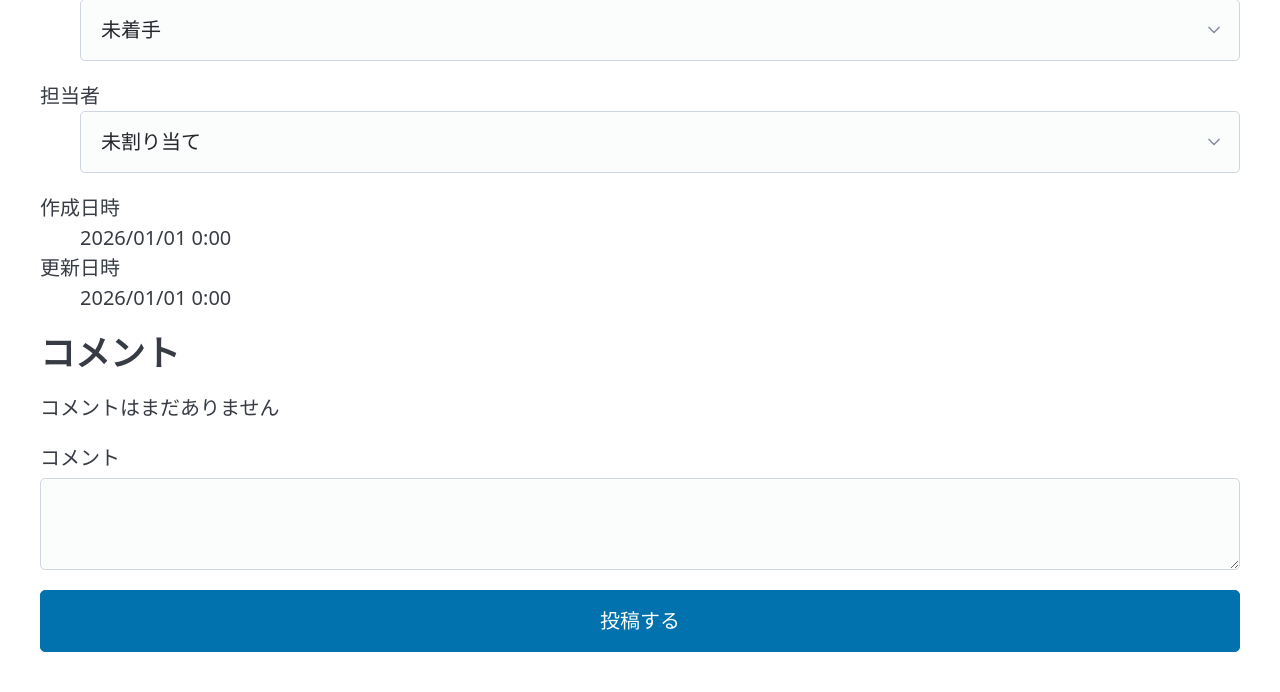
it: コメント投稿 › 投稿すると、一覧を取り直して表示し、フォームを空にする
(page scrolled)
Check: the form named "コメントを投稿" is shown, box [40,443,1240,672]
In the text box labelled "コメント": x=640, y=524 [40,478,1240,570], type "新しいコメント"
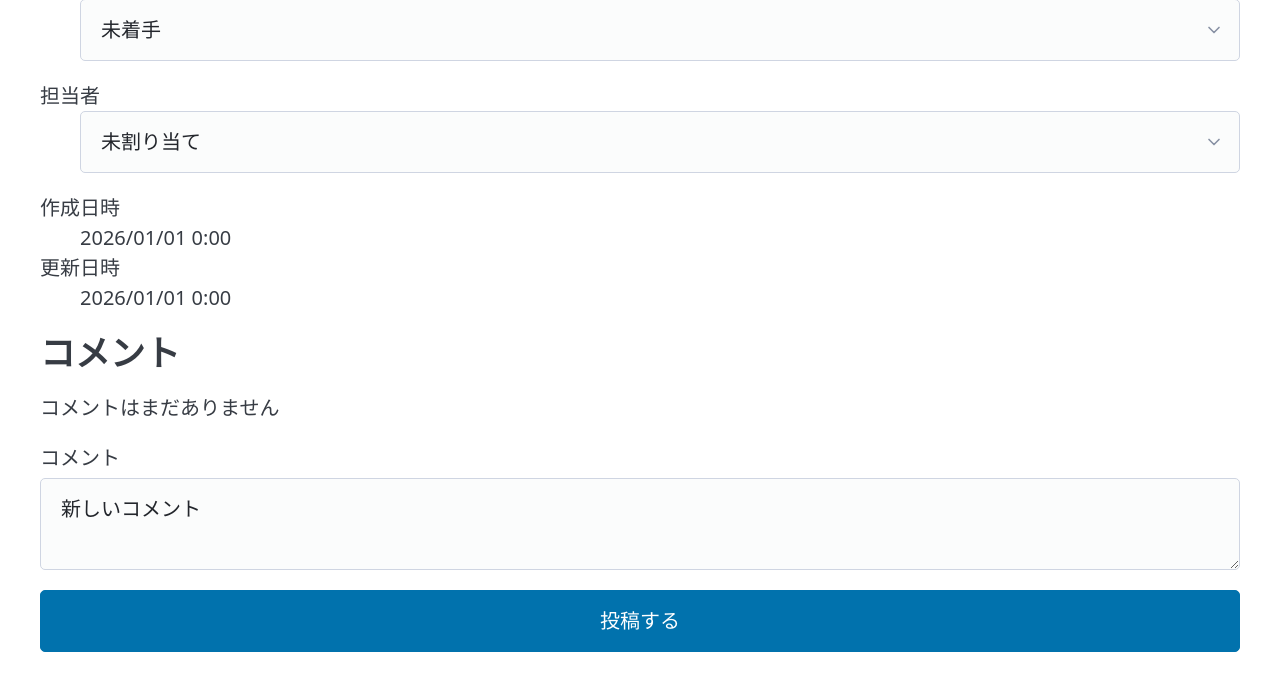
Click the button "投稿する": x=640, y=621 [40,590,1240,652]
(page scrolled)
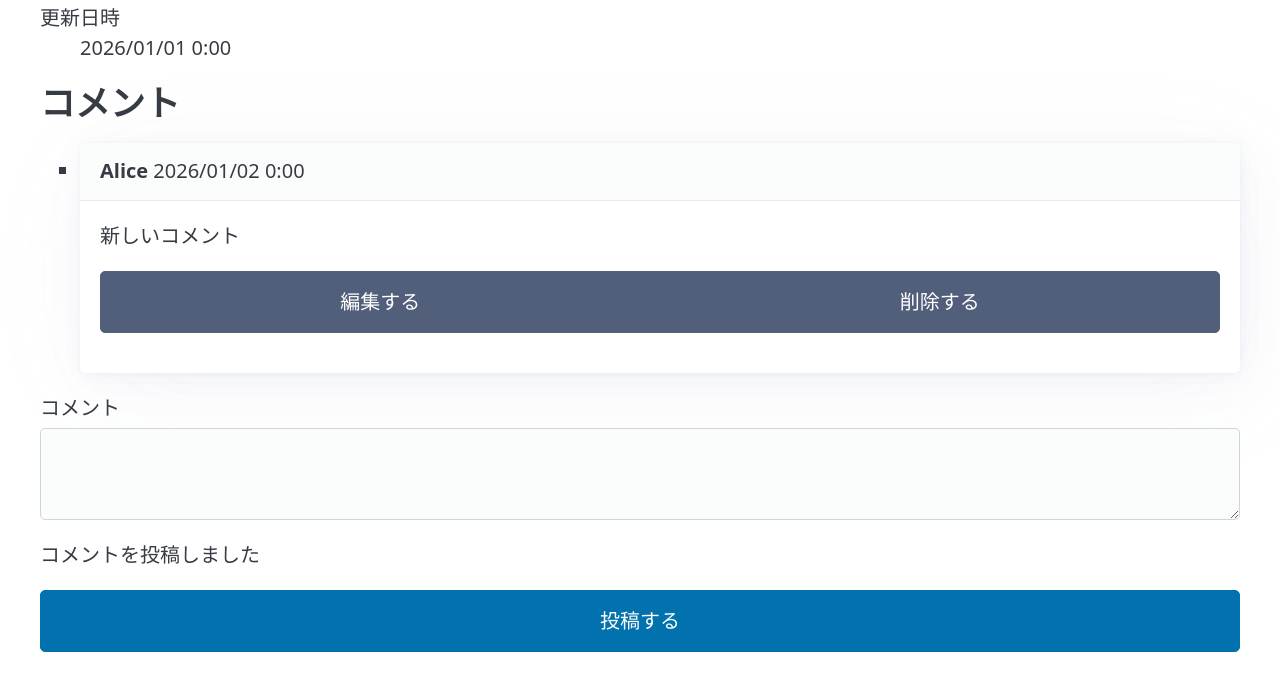
Check: the message reads "コメントを投稿しました", box [40,541,260,568]
Check: the text "新しいコメント" is shown, box [100,222,240,249]
Check: the text box labelled "コメント" is empty, box [40,428,1240,520]
